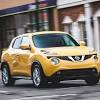Nissan: (1, 31, 100, 84)
